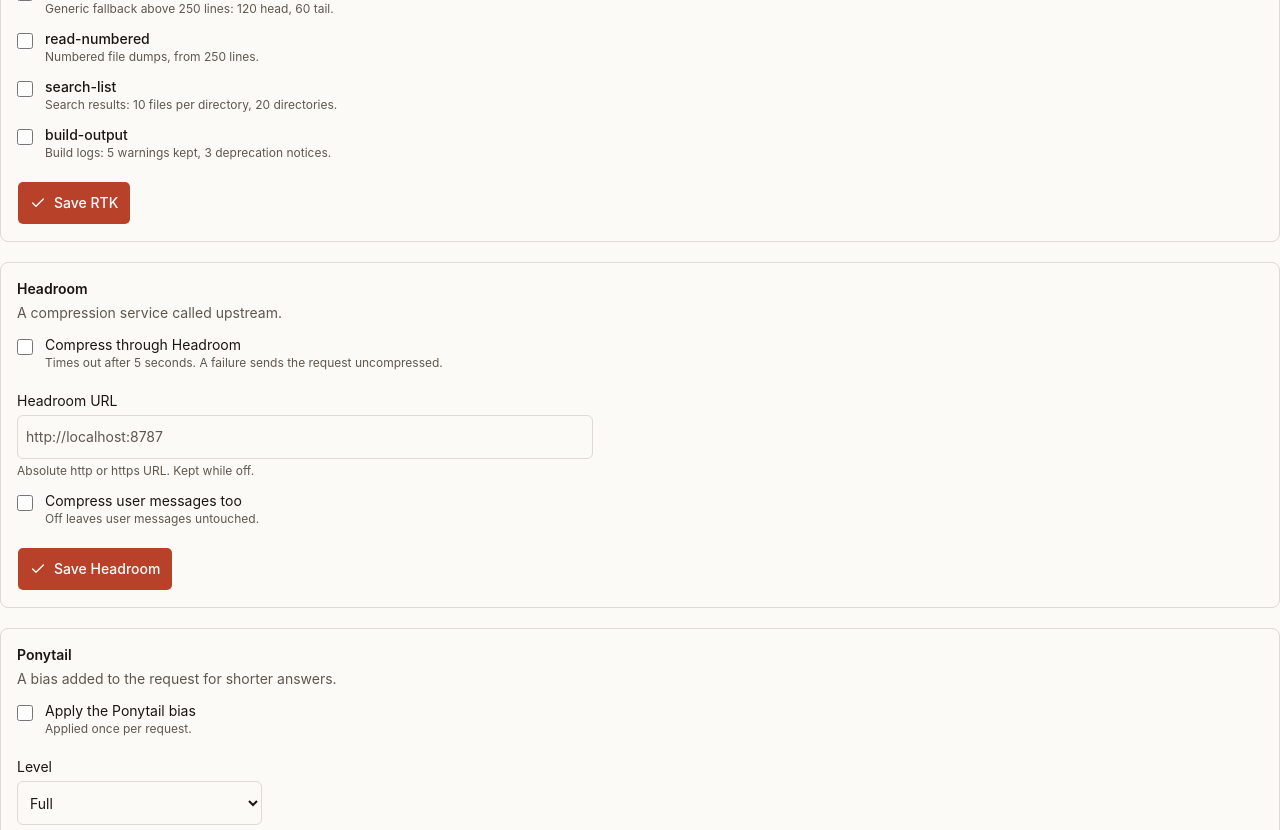
Test case: TokenSaverPage saves › refuses a Headroom save whose URL has no scheme, without sending a request
The image size is (1280, 830).
(page scrolled)
Type "localhost:8787" into the field labelled "Headroom URL" at (305, 437), box [17,415,593,459]
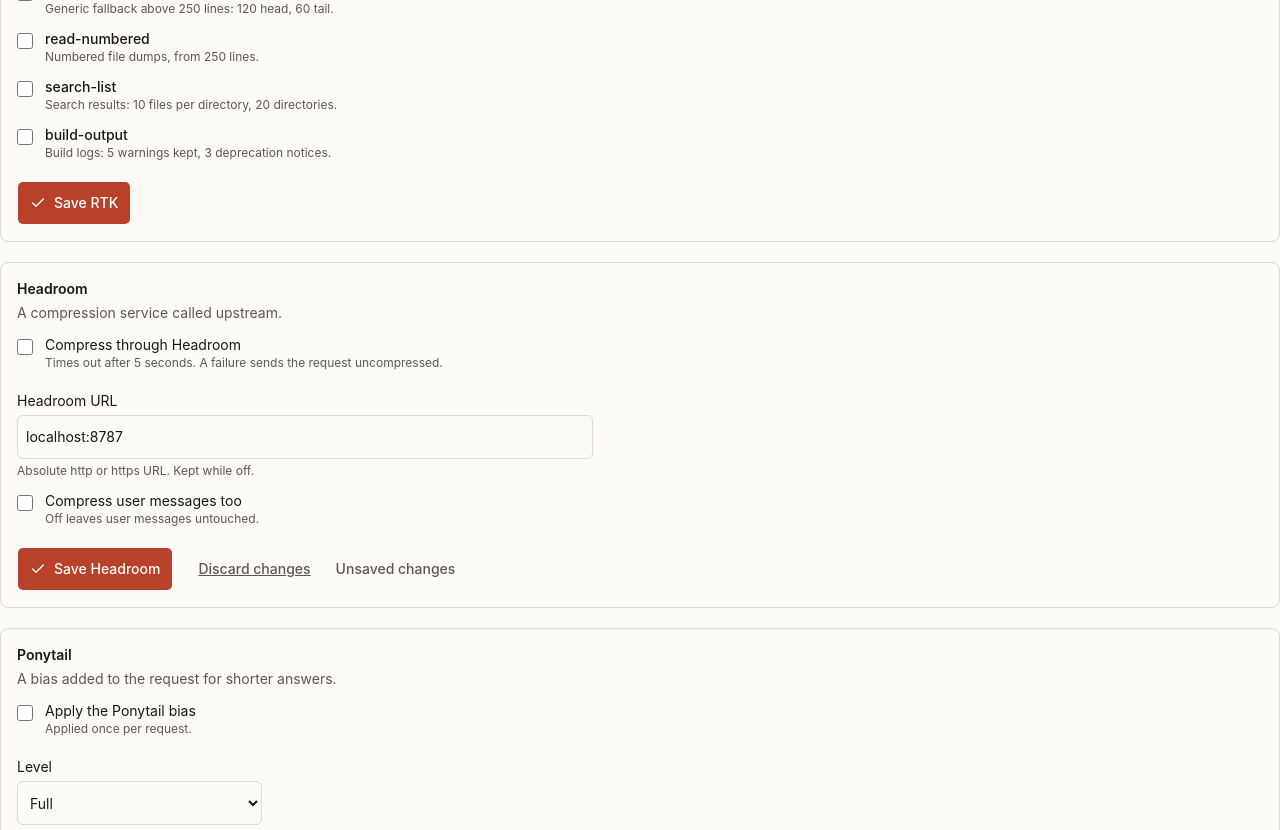
Click the button "Save Headroom" at (95, 569), box [17,547,173,591]
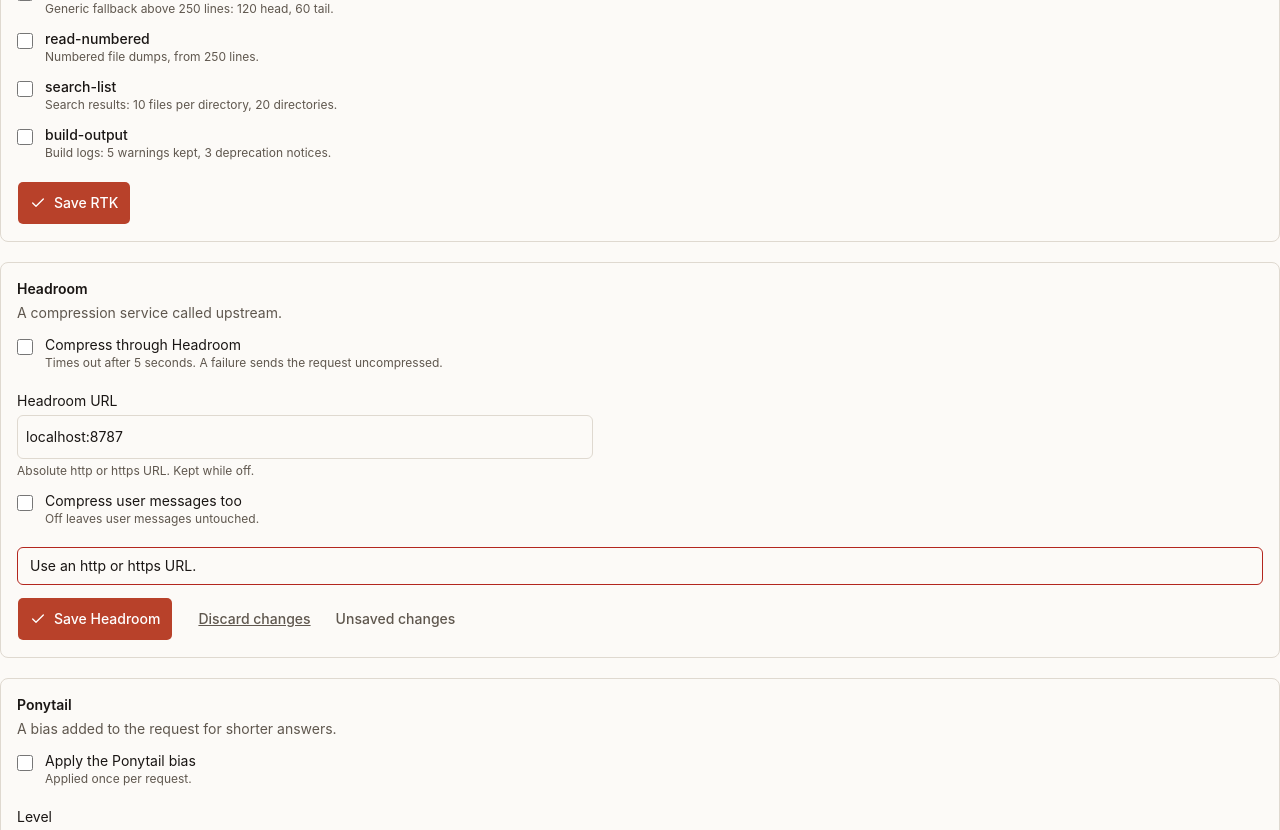
Result: the text "Use an http or https URL." is shown at [30,557,196,574]
